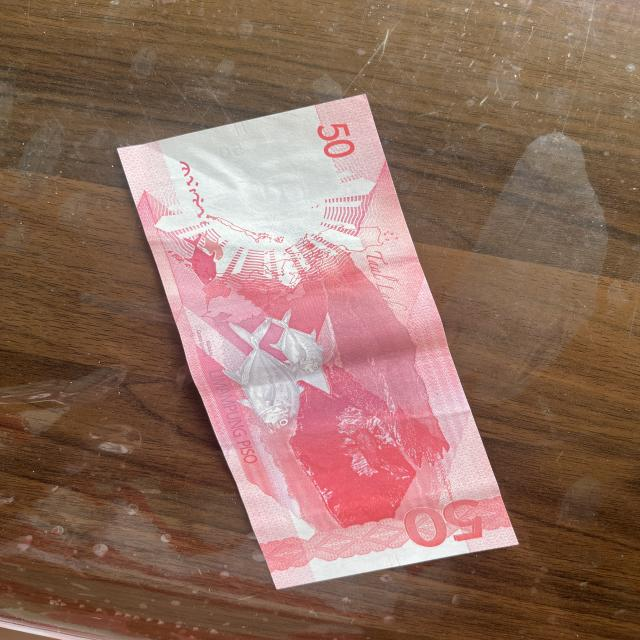50_maliputo: (216, 306, 360, 438)
50_maliputo_watermark: (172, 226, 234, 290)
value_watermark: (213, 140, 257, 164)
watermark: (187, 136, 326, 230)
